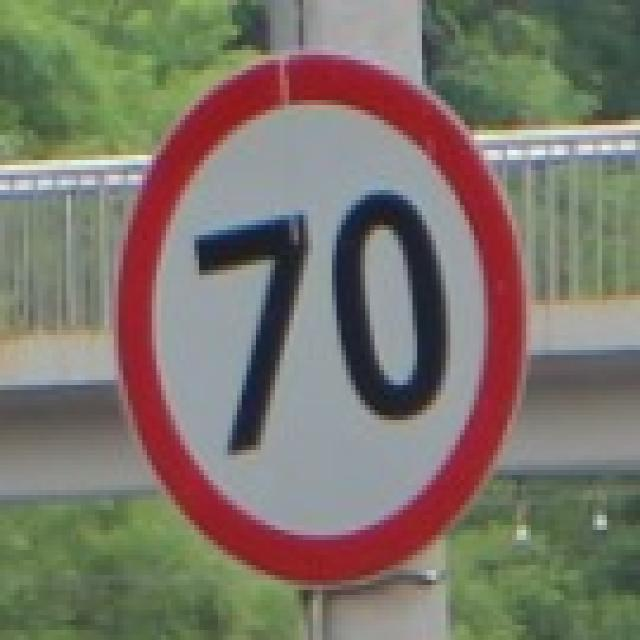Speed Limit -70-: (190, 186, 457, 462)
